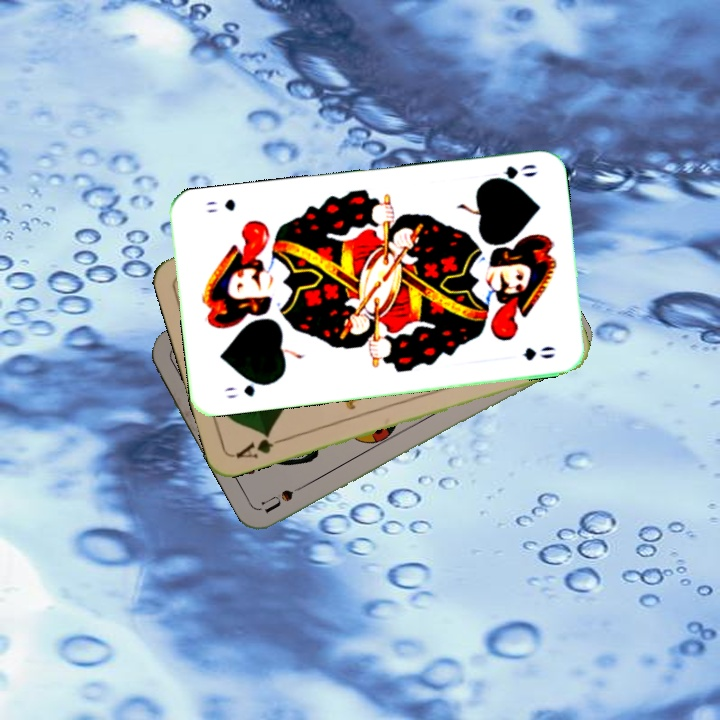GA: (232, 429, 289, 461)
GO: (481, 160, 540, 186), (220, 376, 273, 401)
SU: (258, 477, 315, 516)
